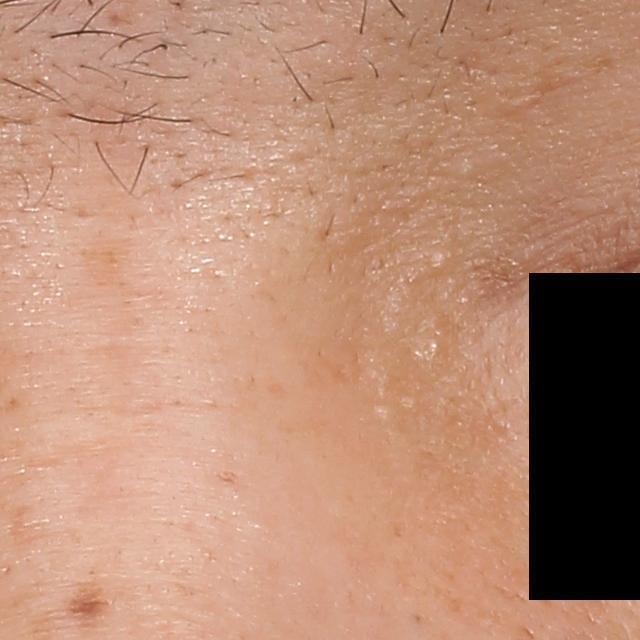comedo: (430, 249, 452, 273)
melasma: (64, 574, 117, 635)
